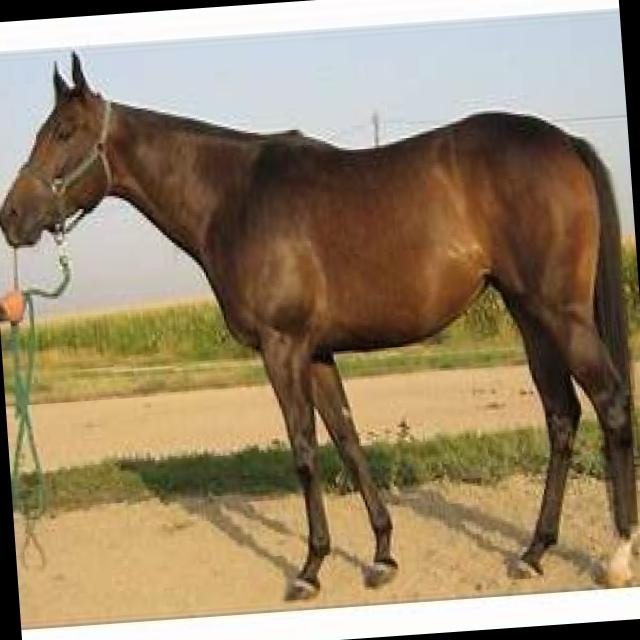horse: (0, 11, 640, 624)
